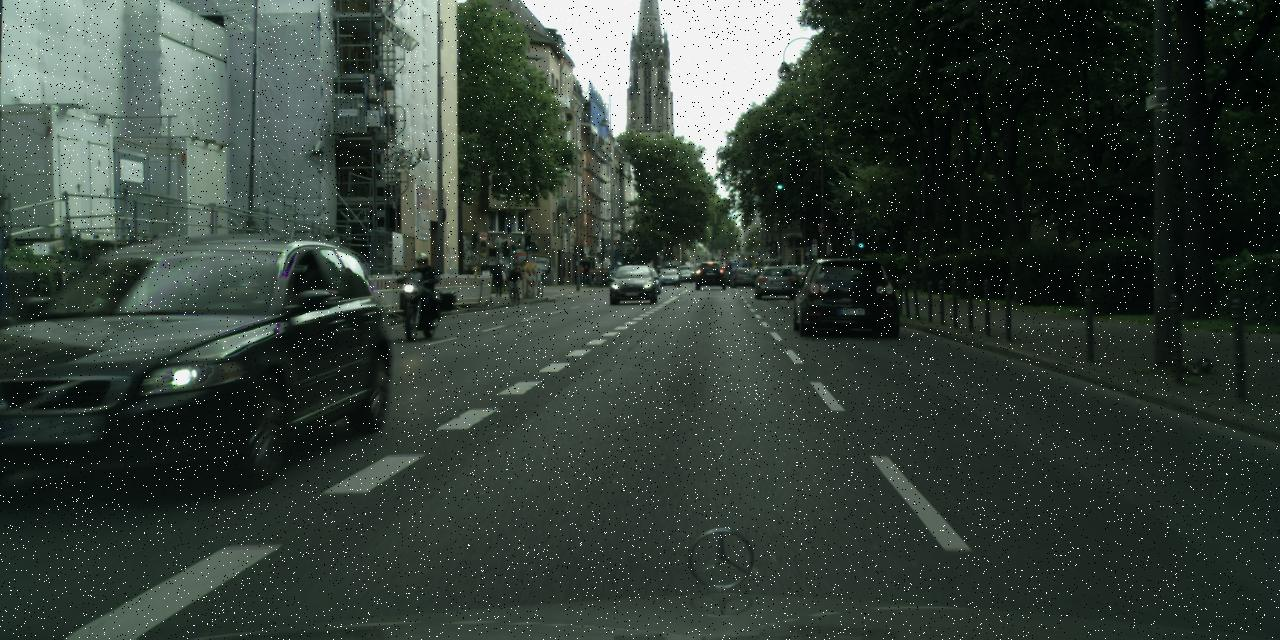ped: (409, 252, 438, 324), (491, 263, 504, 296), (509, 266, 521, 298)
